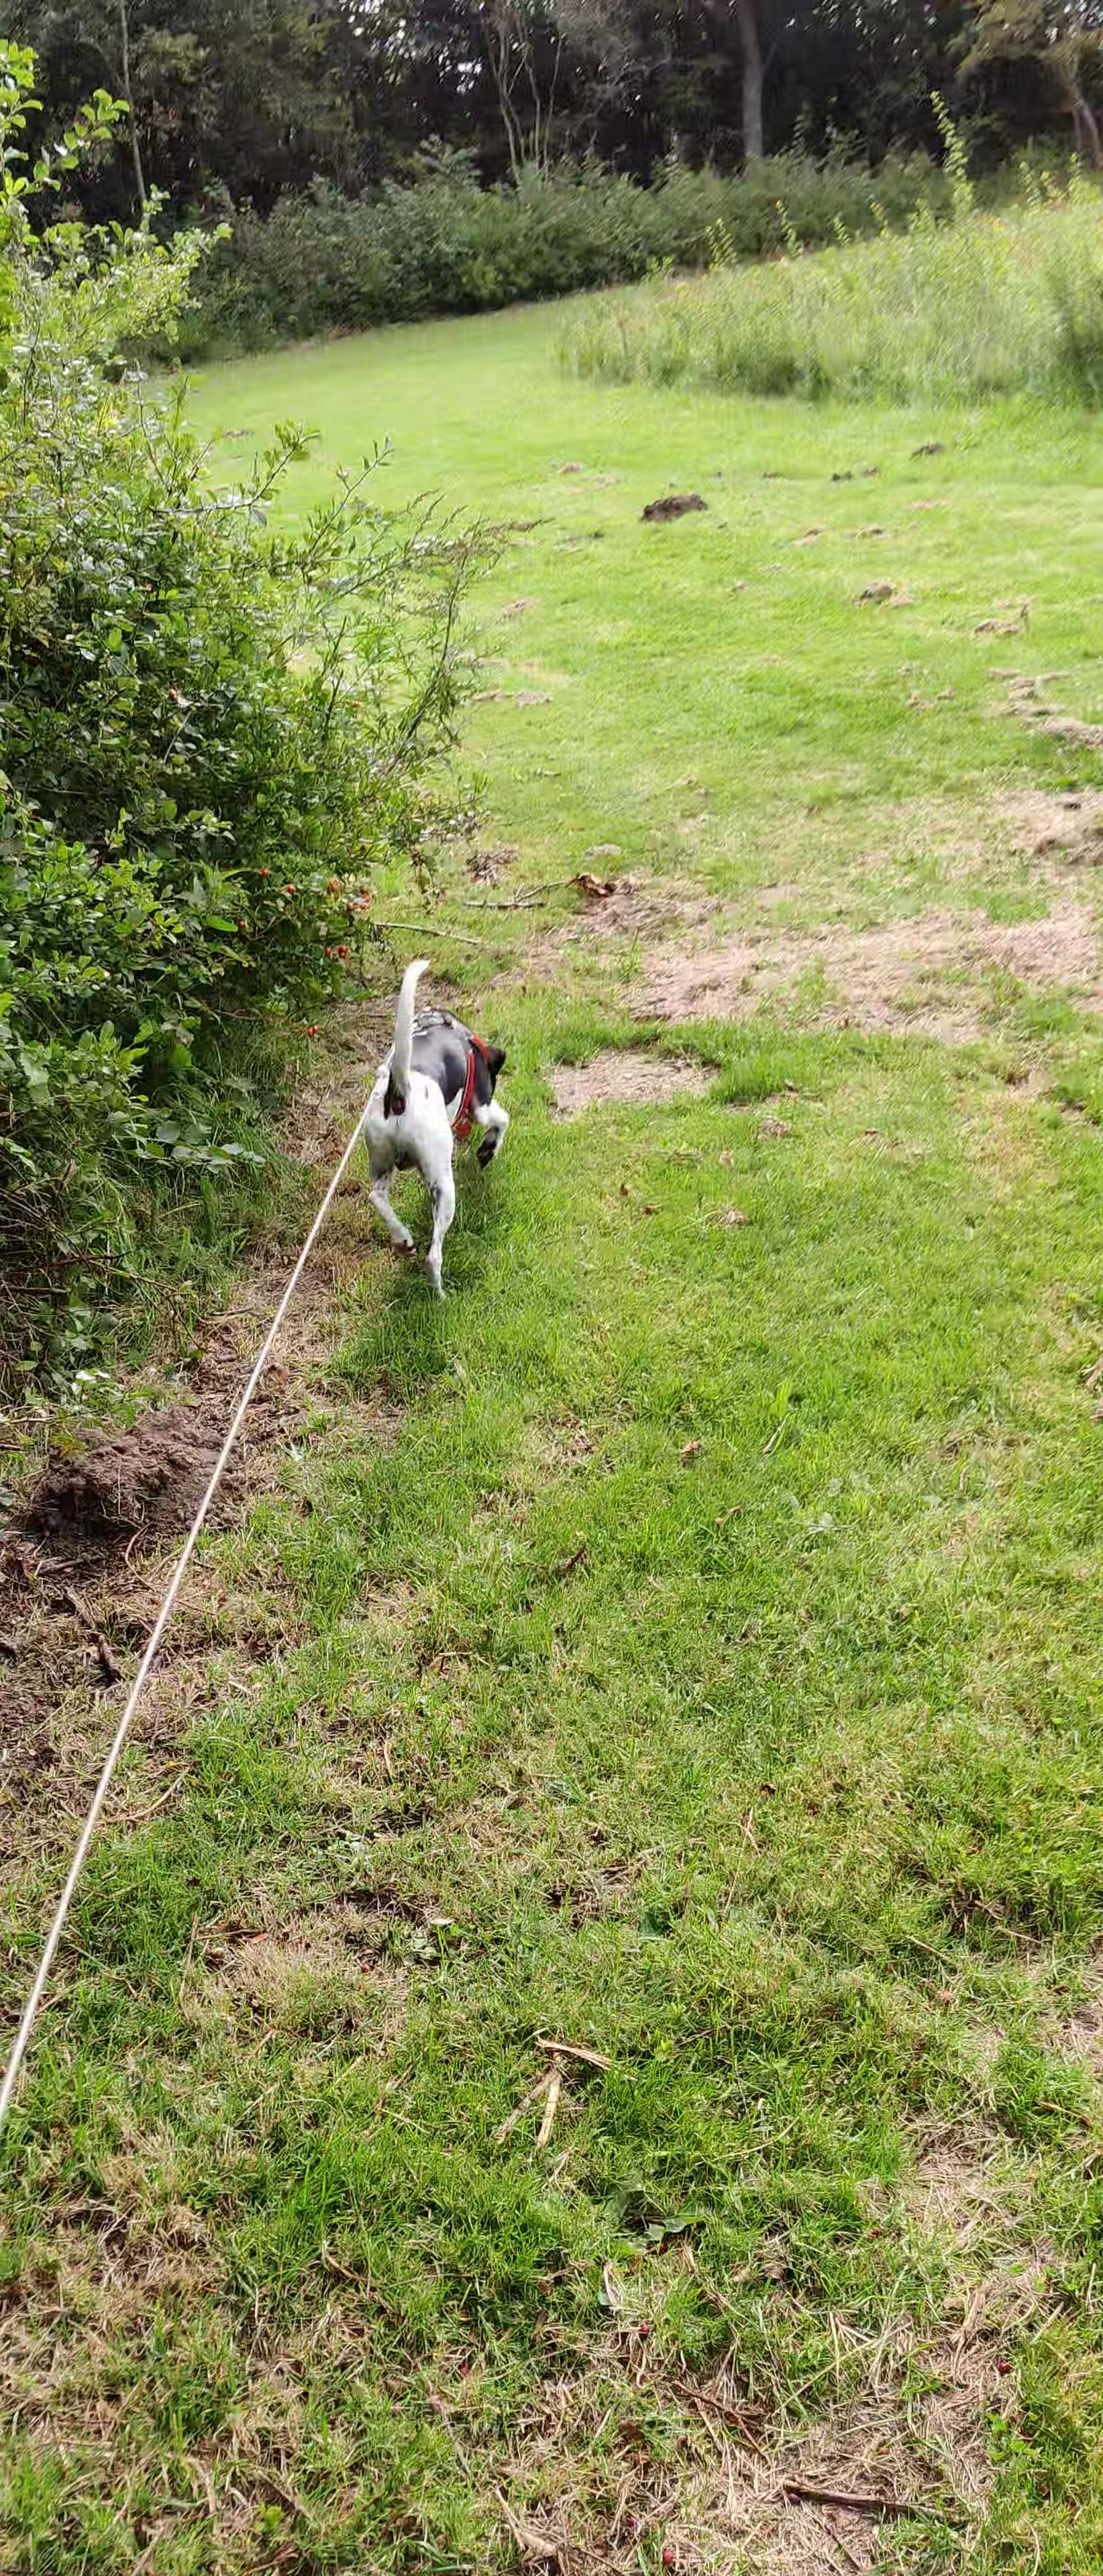Dog: (350, 954, 518, 1304)
